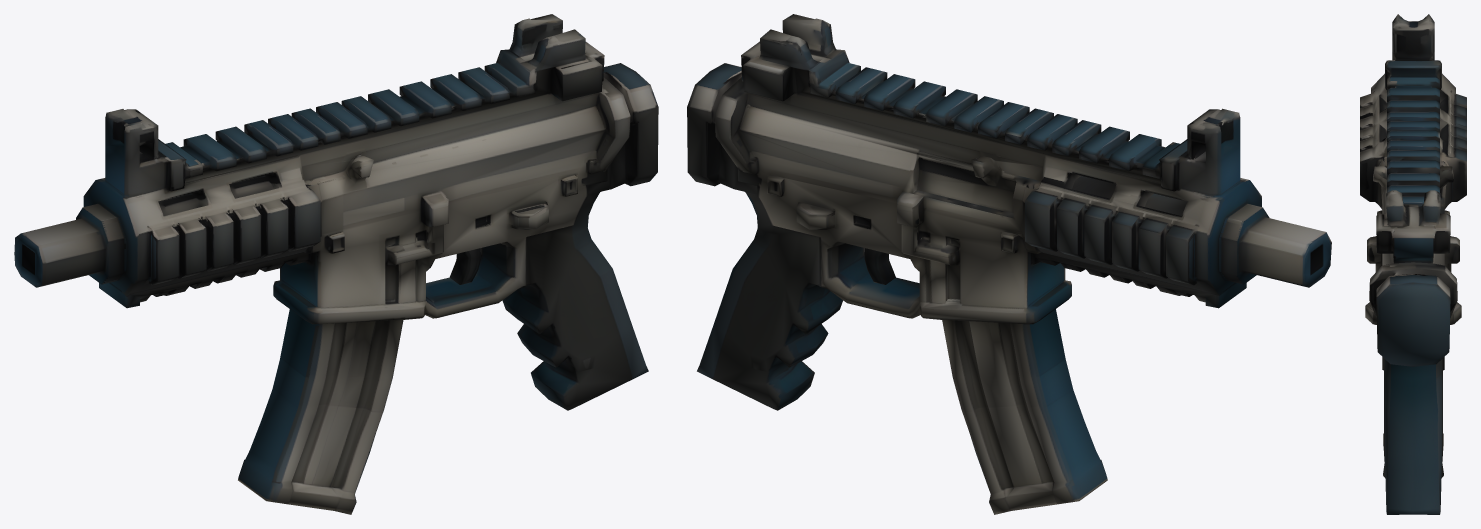
Rendered from SMG Assault Weapons 3D Model.glb.
3 renders of one model, left to right at view 1: azimuth 30°, elevation 25°; view 2: azimuth 150°, elevation 25°; view 3: azimuth 270°, elevation 25°, orthographic. The views are drawn at different scales.
Parts seen in each view (by area): view 1: material; view 2: material; view 3: material.
Part boxes in pixels (x1,y1,x2,y2): material: (14, 14, 658, 514); material: (687, 14, 1331, 514); material: (1360, 14, 1466, 514).
Size of the model in its own units: 1.9 by 1.3 by 0.3573.
Materials: 1 (1 with a texture image).
